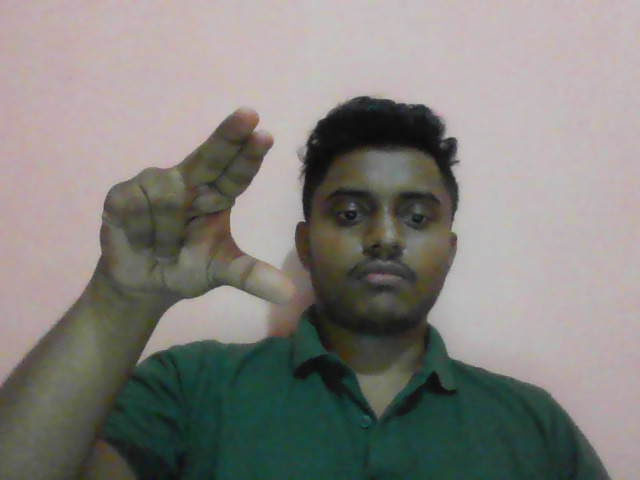No: (93, 103, 305, 312)
